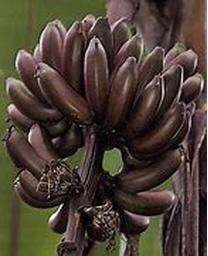banana: (3, 12, 202, 254)
